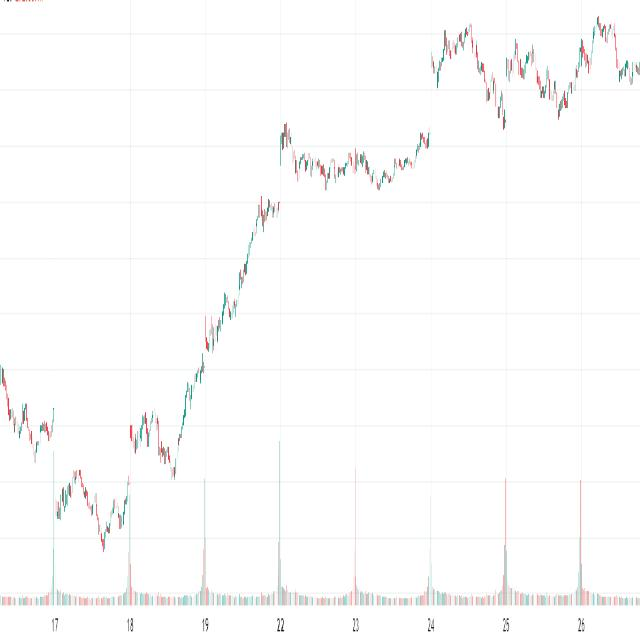Channel-down: (460, 7, 514, 156)
Falling-Wedge: (499, 13, 563, 109)
